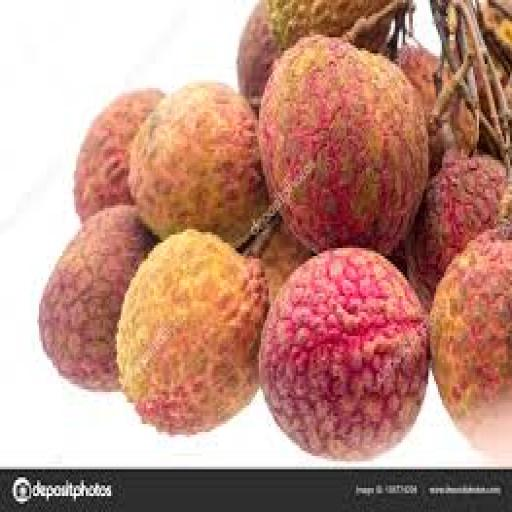lychee: (259, 38, 428, 255), (259, 248, 428, 458), (117, 230, 268, 434), (129, 83, 266, 245), (39, 206, 153, 389), (431, 224, 511, 461), (407, 152, 506, 306), (74, 88, 163, 221), (267, 0, 391, 47), (238, 0, 280, 111), (261, 222, 313, 301), (429, 96, 476, 173)
